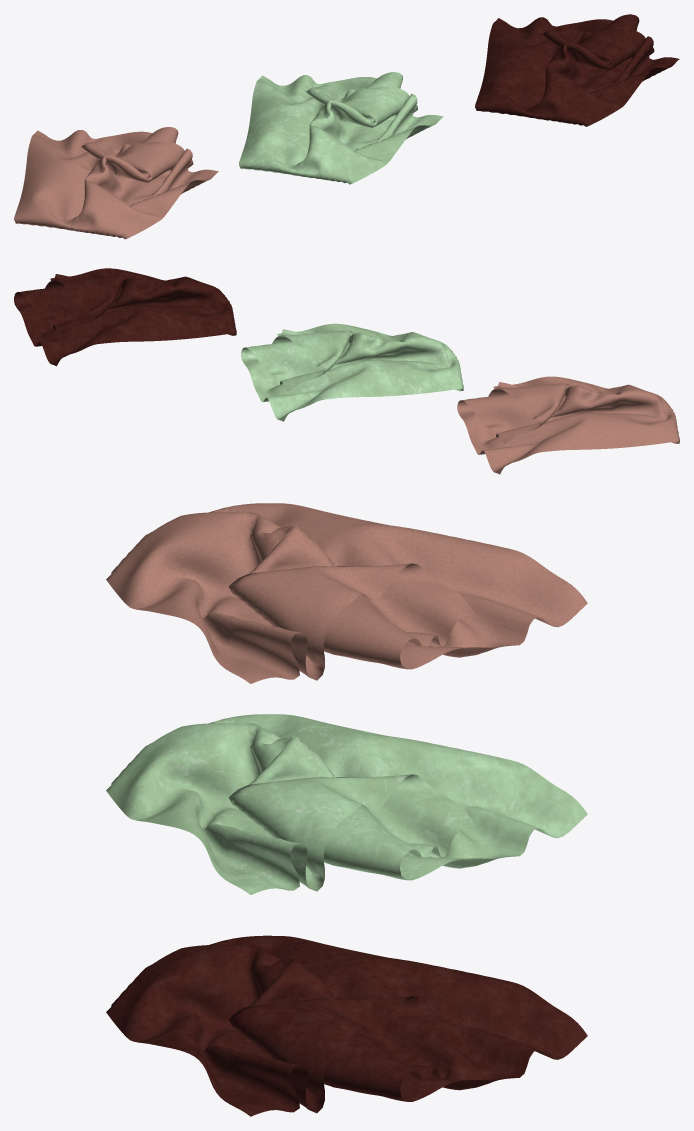
File: tryapki.fbx
3 renders of one model, top to bottom at view 1: azimuth 30°, elevation 25°; view 2: azimuth 150°, elevation 25°; view 3: azimuth 270°, elevation 25°, orthographic. The views are drawn at different scales.
Parts seen in each view (by area): view 1: tryapka.001, tryapka, tryapka.002; view 2: tryapka.002, tryapka, tryapka.001; view 3: tryapka.002, tryapka, tryapka.001.
Part boxes in pixels (box(x1,y1,x2,y2)): tryapka.001: box(475, 14, 679, 126); tryapka: box(239, 72, 443, 184); tryapka.002: box(14, 127, 218, 239); tryapka.002: box(457, 376, 679, 474); tryapka: box(241, 323, 463, 421); tryapka.001: box(14, 268, 236, 366); tryapka.002: box(106, 503, 587, 683); tryapka: box(106, 714, 587, 894); tryapka.001: box(106, 935, 587, 1116).
Bounding box in the file's own units: 6320 × 387 × 2077.
